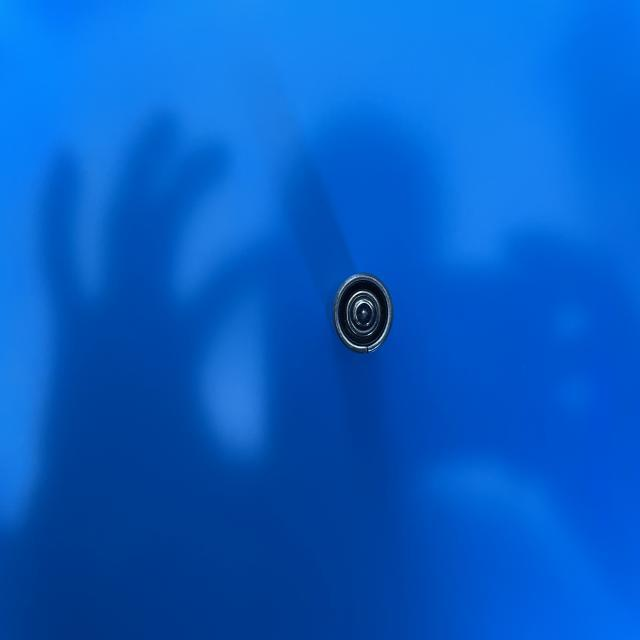hazardous waste: (328, 268, 396, 356)
